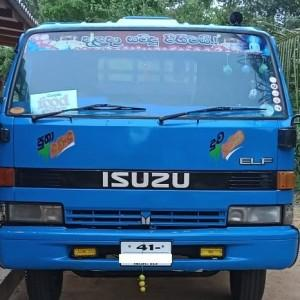truck: (1, 16, 300, 300)
